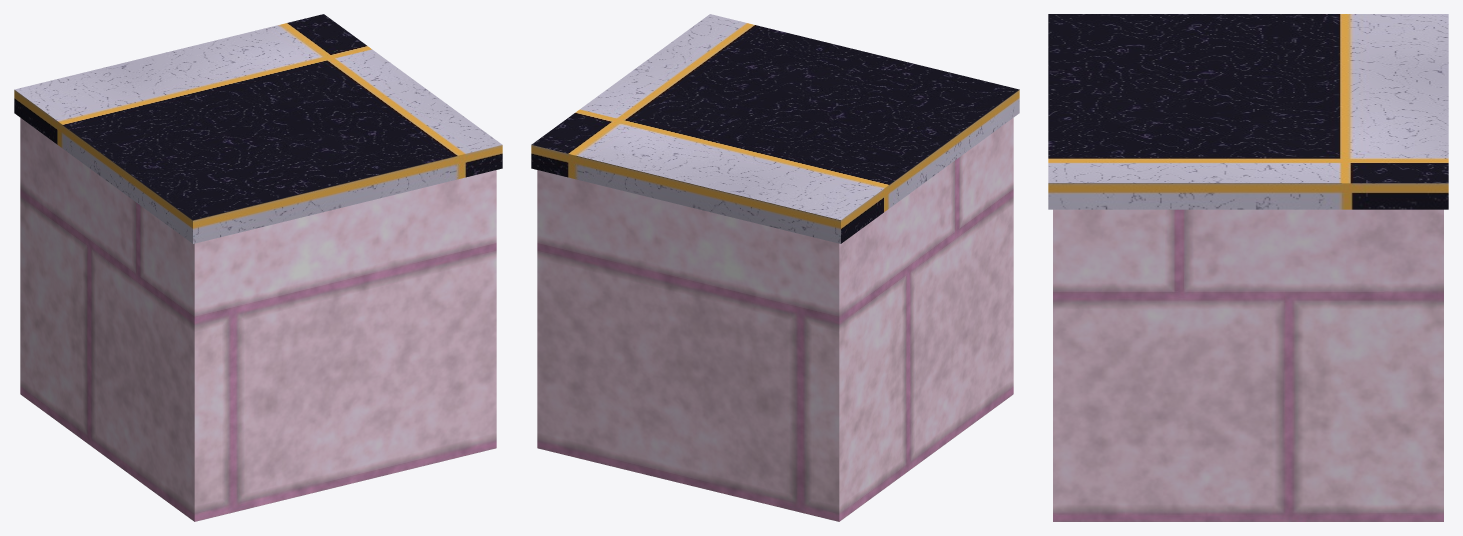
Rendered from citadel_secret_rainbow.glb.
3 renders of one model, left to right at view 1: azimuth 30°, elevation 25°; view 2: azimuth 150°, elevation 25°; view 3: azimuth 270°, elevation 25°, orthographic. The views are drawn at different scales.
Visible parts, largest first — view 1: secret_rainbow_trim, secret_rainbow_floor; view 2: secret_rainbow_trim, secret_rainbow_floor; view 3: secret_rainbow_trim, secret_rainbow_floor.
Boxes of the visible parts, bbox=[...] form: secret_rainbow_trim: bbox=[20, 118, 496, 521]; secret_rainbow_floor: bbox=[14, 14, 502, 243]; secret_rainbow_trim: bbox=[537, 118, 1013, 521]; secret_rainbow_floor: bbox=[531, 14, 1019, 243]; secret_rainbow_trim: bbox=[1053, 209, 1443, 521]; secret_rainbow_floor: bbox=[1048, 14, 1448, 209].
Bounding box in the file's own units: 1.64 × 1.54 × 1.64.
2 materials, 2 textured.
